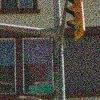traffic lights: (64, 0, 86, 42)
